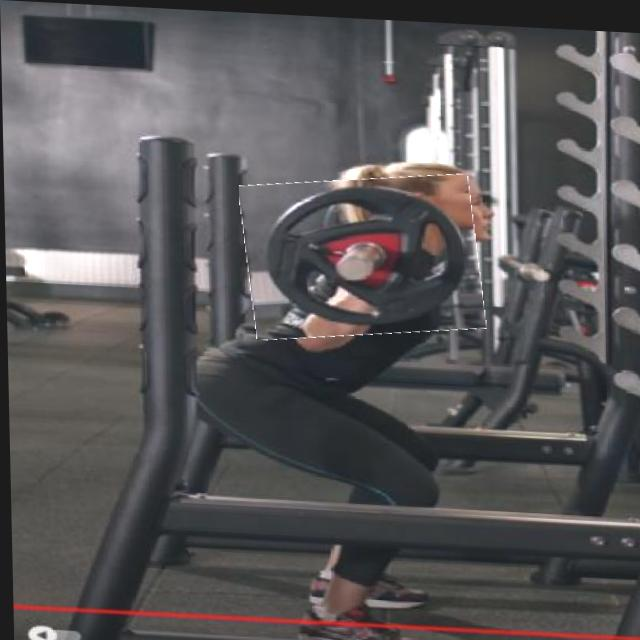barbell: (242, 166, 483, 342)
